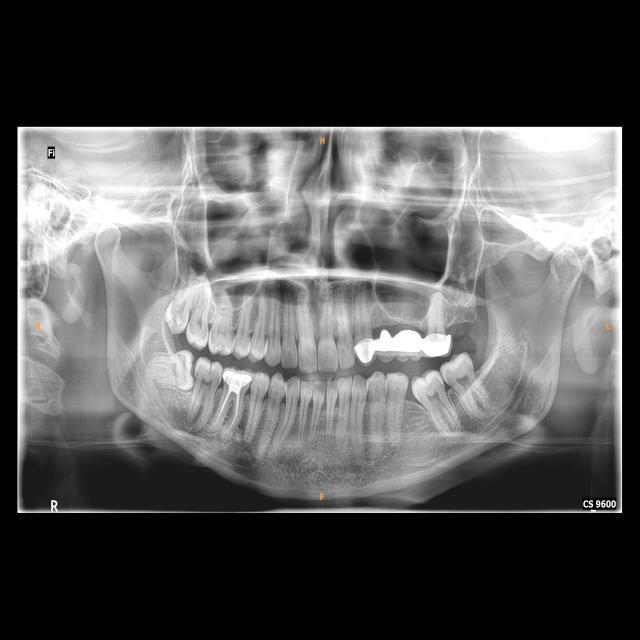kanal-tedavisi: (218, 388, 241, 432)
kaplama: (222, 365, 252, 395), (424, 330, 454, 359), (354, 336, 376, 364)
kopru: (370, 325, 432, 361)
